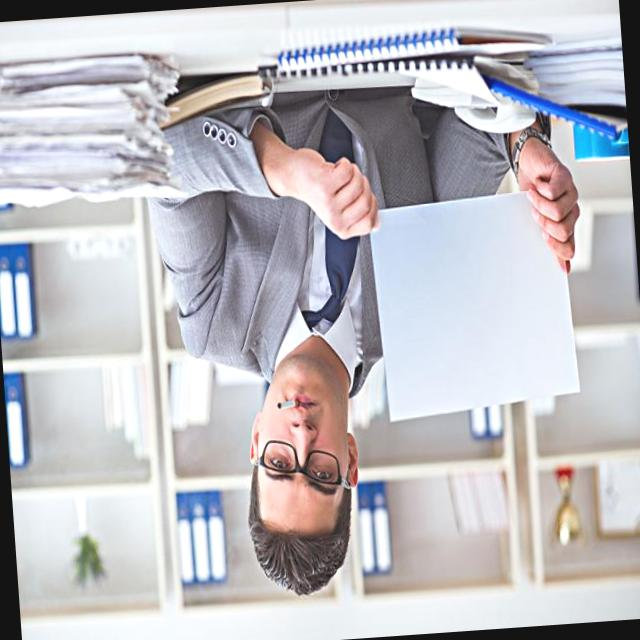cigarette: (272, 388, 304, 424)
